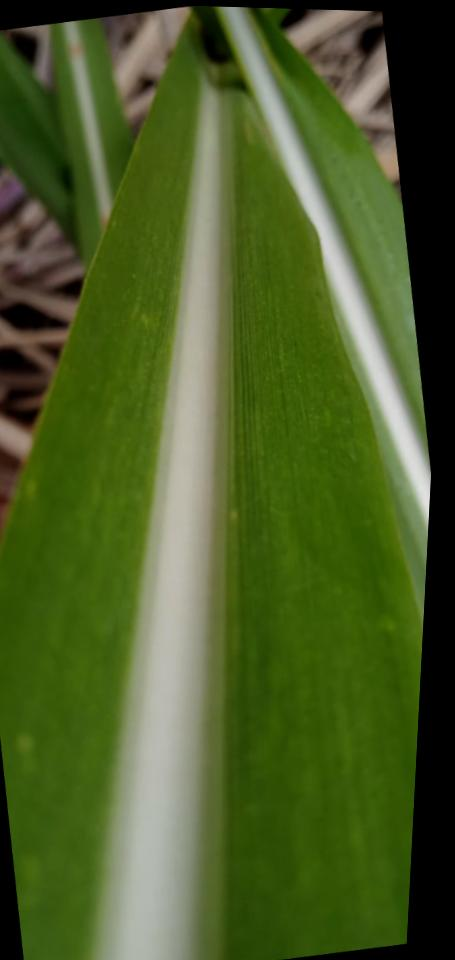Healthy: (0, 6, 422, 960), (216, 6, 431, 623)
